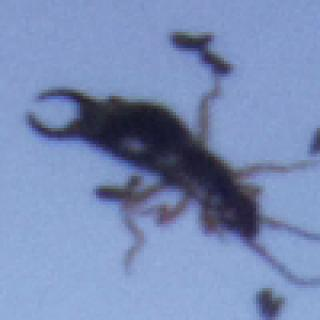earwig: (23, 74, 320, 289)
